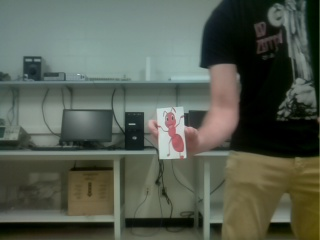Happy: (157, 107, 185, 160)
